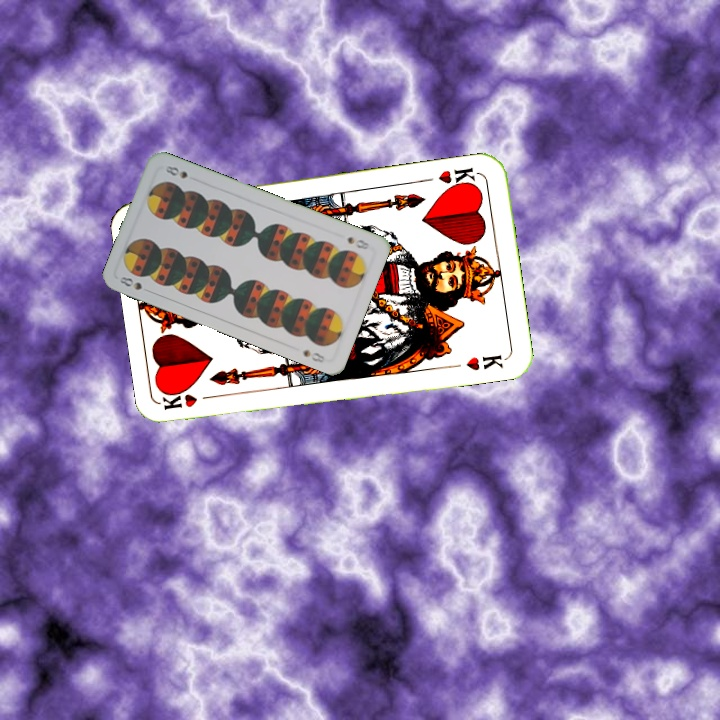HK: (160, 390, 219, 413), (435, 163, 481, 192)
S8: (115, 272, 154, 296), (343, 232, 373, 252)
